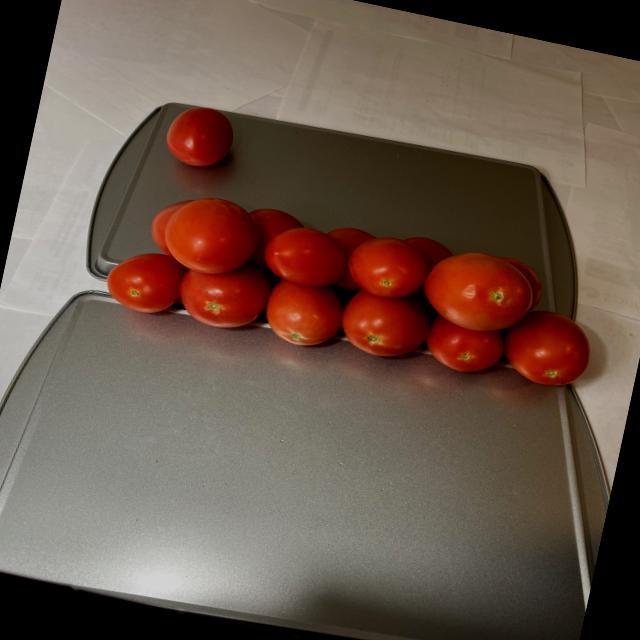tomato: (101, 176, 616, 410), (156, 99, 244, 176)
